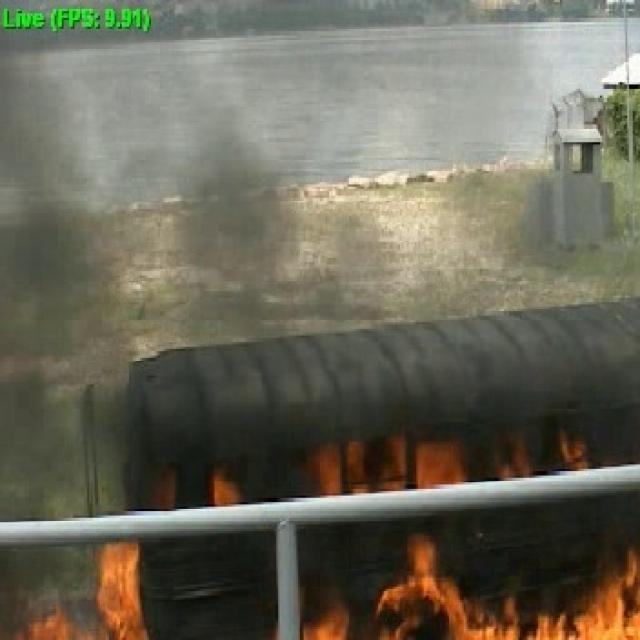fire: (382, 551, 640, 640), (22, 546, 149, 640)
smoke: (143, 37, 544, 364), (7, 30, 125, 506)
